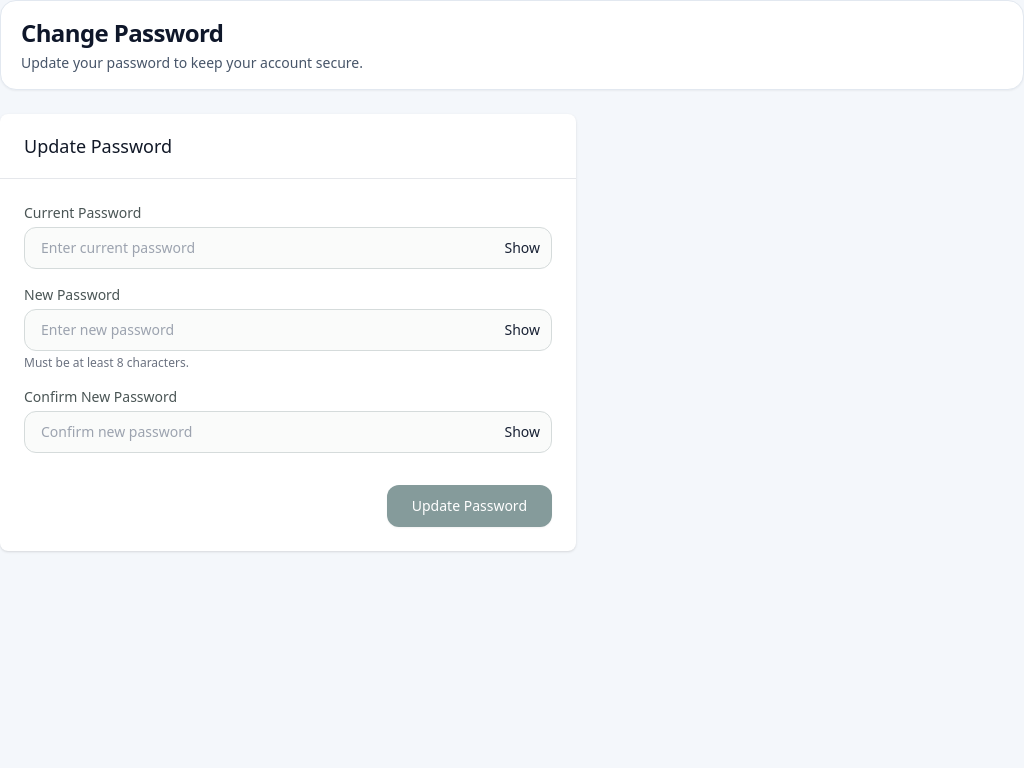
Test: ChangePasswordPage › renders fields and handles success flow
Check: the password field labelled "New Password" is shown, box left=24, top=309, right=552, bottom=351
Check: the password field labelled "Confirm New Password" is shown, box left=24, top=411, right=552, bottom=453
Type "OldPassword123!" into the password field labelled "Current Password" at (288, 248), box left=24, top=227, right=552, bottom=269
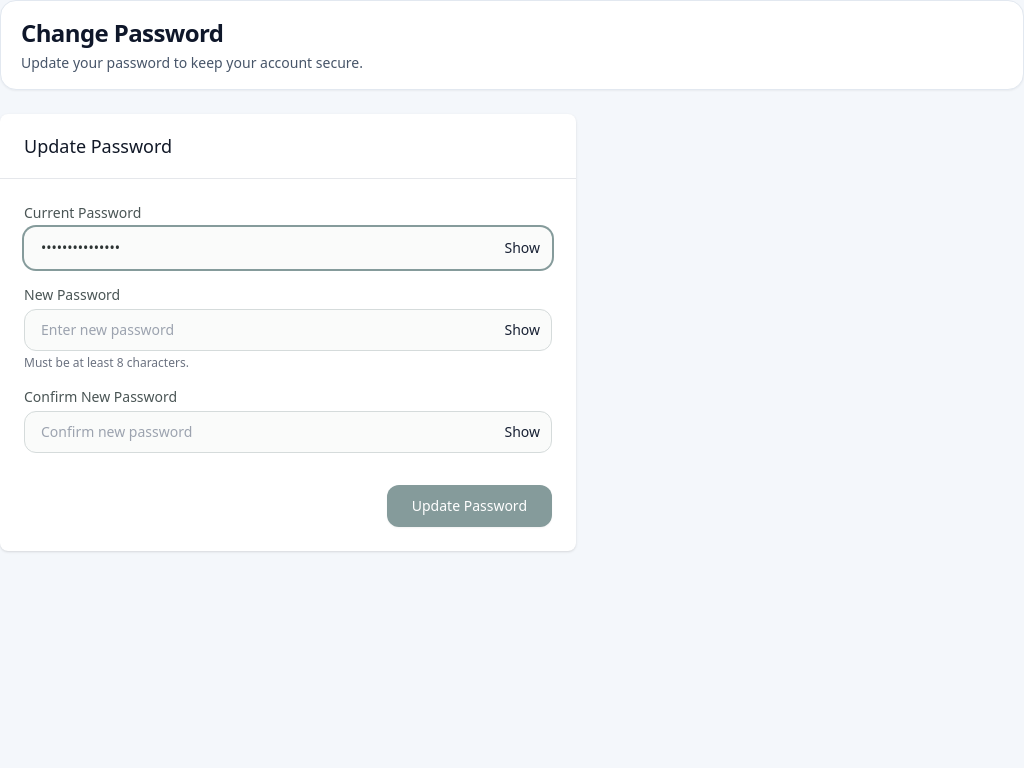
Type "NewPassword123!" into the password field labelled "New Password" at (288, 330), box left=24, top=309, right=552, bottom=351
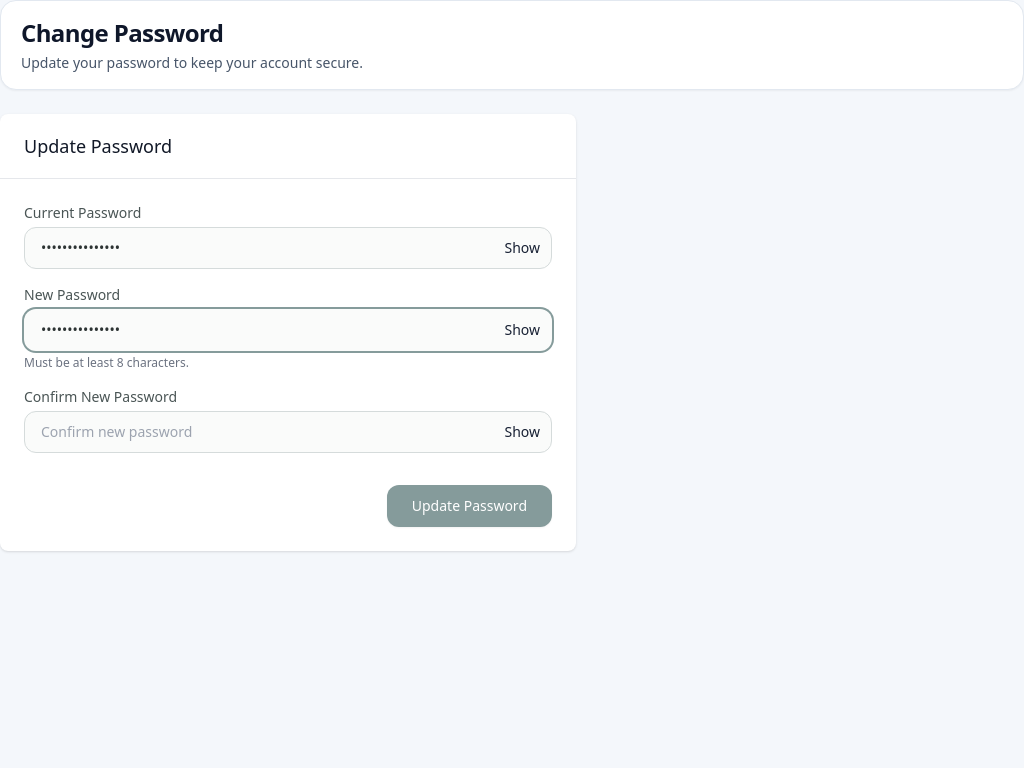
Type "NewPassword123!" into the password field labelled "Confirm New Password" at (288, 432), box left=24, top=411, right=552, bottom=453
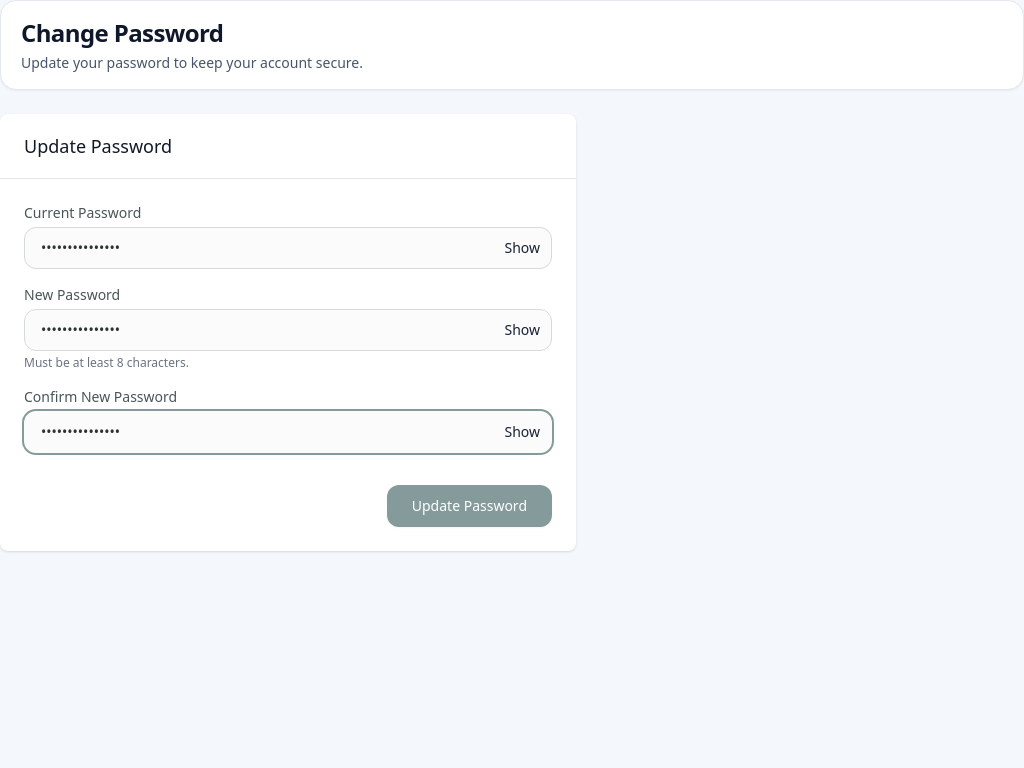
Click the button "Update Password" at (469, 506), box left=387, top=485, right=552, bottom=527
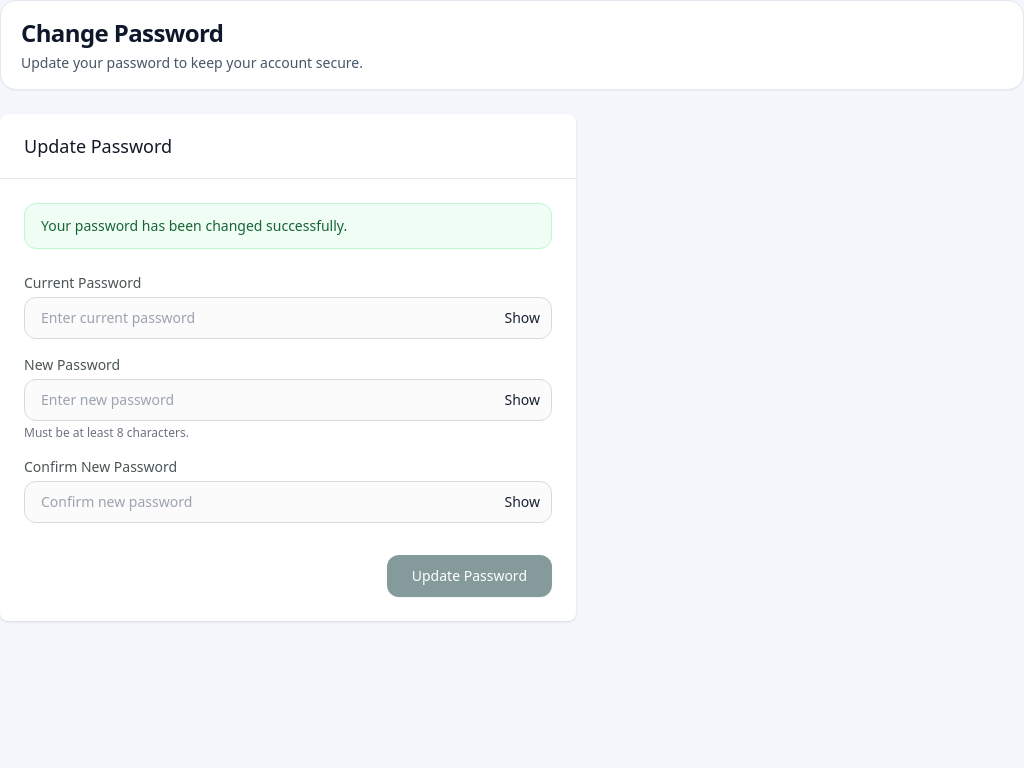
Check: the text "Your password has been changed successfully." is shown, box left=24, top=203, right=552, bottom=249
